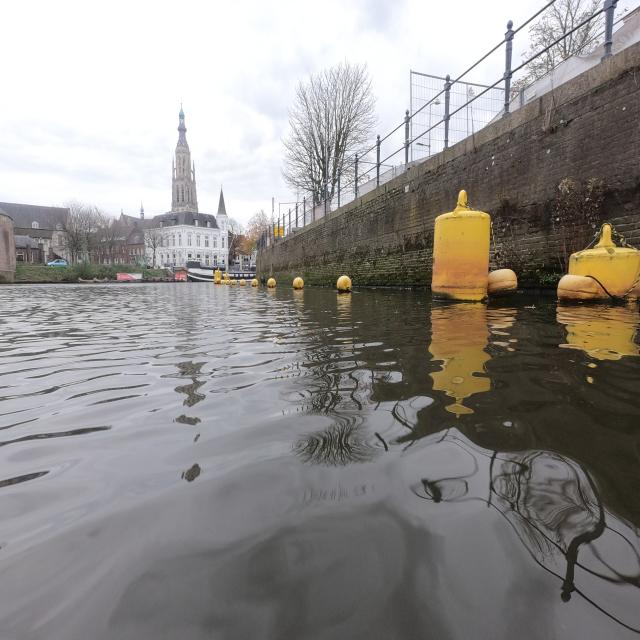grass: (14, 262, 167, 283)
sky: (0, 0, 545, 224)
wall: (258, 42, 640, 285), (0, 213, 16, 282)
water: (0, 282, 640, 640)
